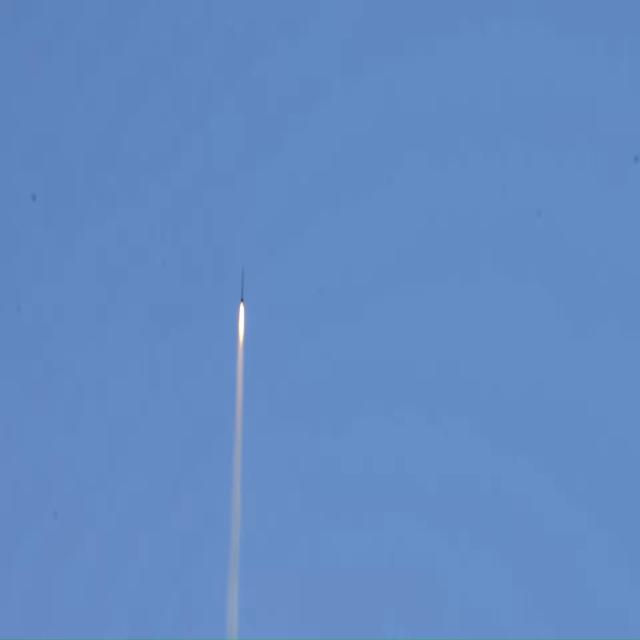Rocket: (240, 268, 244, 302)
